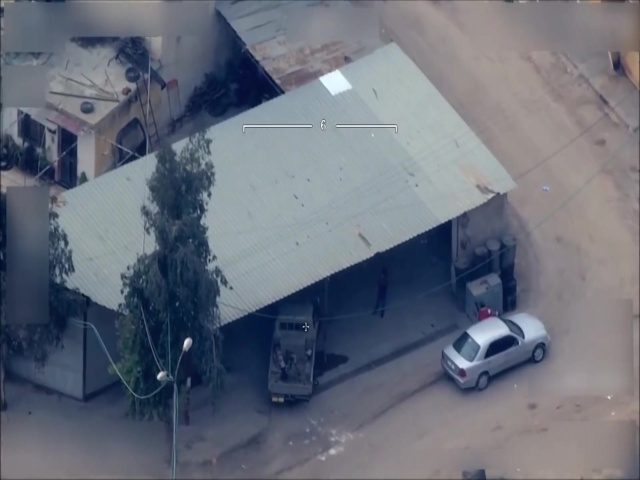person: (371, 268, 390, 317)
vehicle: (443, 310, 555, 392), (267, 302, 320, 404)
